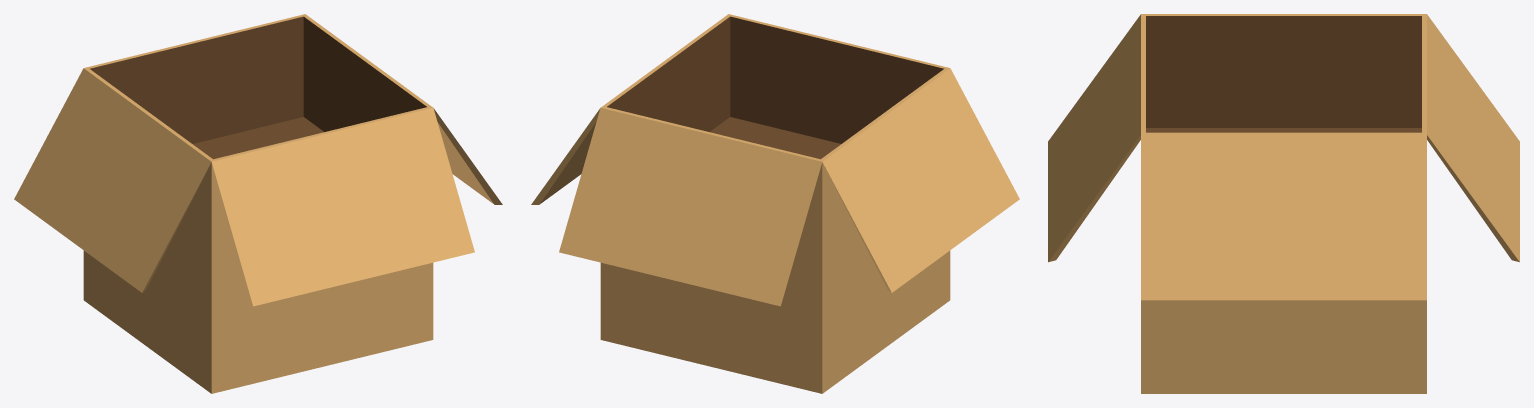
The picture shows the model from 3 angles, left to right: view 1: azimuth 30°, elevation 25°; view 2: azimuth 150°, elevation 25°; view 3: azimuth 270°, elevation 25°; orthographic projection. The views are drawn at different scales.
Parts seen in each view (by area): view 1: Cube.001; view 2: Cube.001; view 3: Cube.001.
Part boxes in pixels (box(x1,y1,x2,y2)): Cube.001: box(14, 14, 502, 393); Cube.001: box(531, 14, 1019, 393); Cube.001: box(1048, 14, 1519, 393).
Size of the model in its own units: 827 by 508 by 839.
